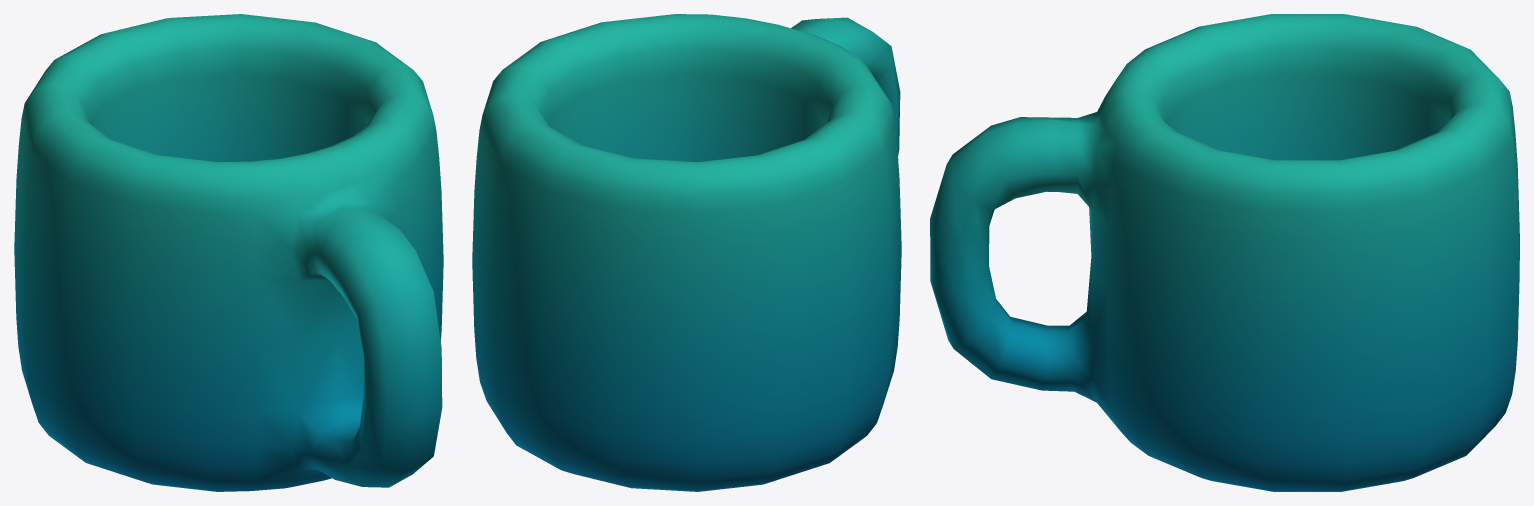
Rendered from Cup's.fbx.
3 views of the same model, side by side, from view 1: azimuth 30°, elevation 25°; view 2: azimuth 150°, elevation 25°; view 3: azimuth 270°, elevation 25° (orthographic).
Parts seen in each view (by area): view 1: Cup_Blue; view 2: Cup_Blue; view 3: Cup_Blue.
Boxes of the visible parts, x1,y1,x2,y2 form: Cup_Blue: [14, 14, 443, 491]; Cup_Blue: [472, 14, 901, 491]; Cup_Blue: [930, 14, 1519, 491].
Bounding box in the file's own units: 22.84 × 19.9 × 31.74.
